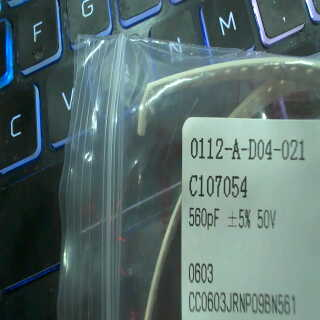560pF: (186, 204, 223, 230)
